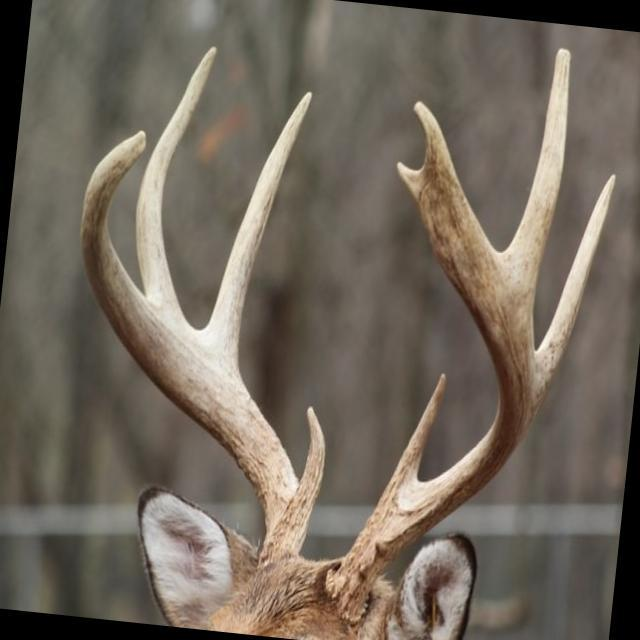E1: (396, 160, 426, 207)
L-F: (327, 98, 536, 625)
L-G1: (388, 373, 446, 482)
L-G2: (536, 173, 616, 411)
L-G3: (501, 47, 571, 316)
R-F: (78, 129, 308, 560)
R-G1: (297, 405, 325, 519)
R-G2: (202, 90, 312, 371)
R-G3: (135, 45, 217, 319)
